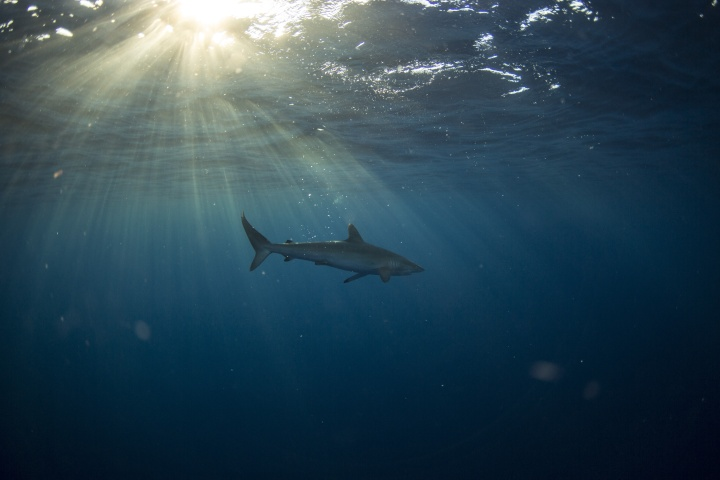Sedoso: (217, 199, 438, 303)
